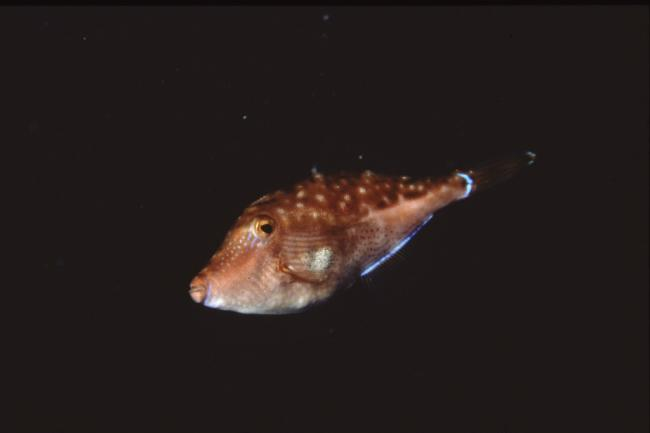fish: (191, 150, 536, 316)
